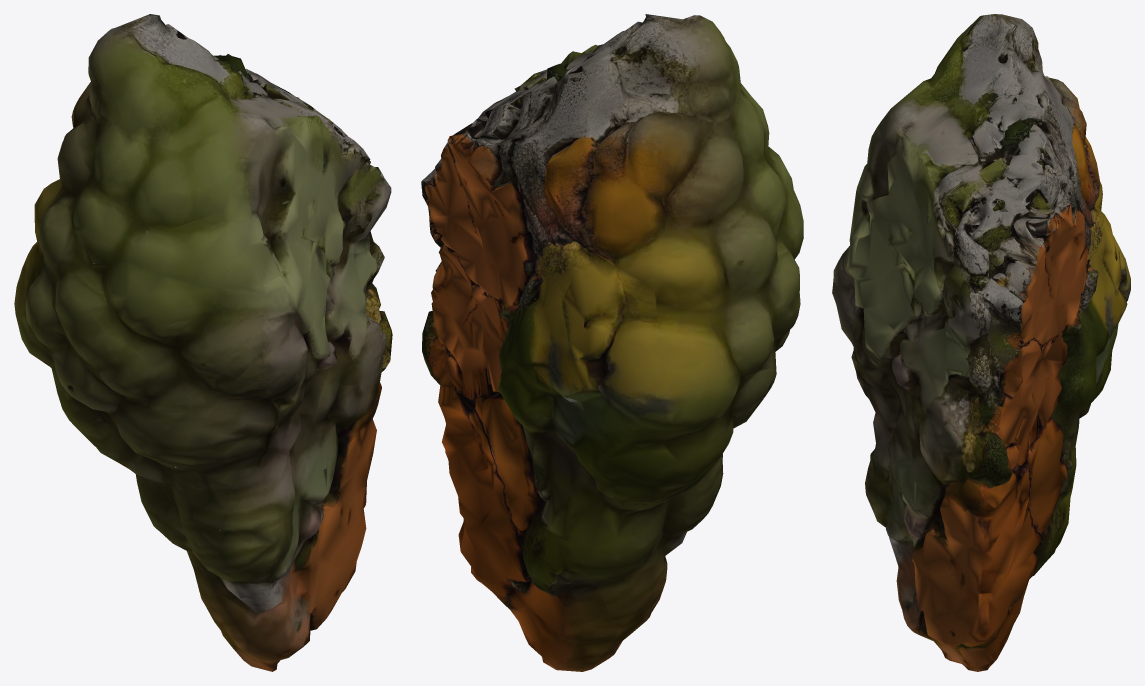
Rendered from rock_sculpture.glb.
The picture shows the model from 3 angles, left to right: view 1: azimuth 30°, elevation 25°; view 2: azimuth 150°, elevation 25°; view 3: azimuth 270°, elevation 25°; orthographic projection. The views are drawn at different scales.
Visible parts, largest first — view 1: tripo_node_705eb9f8; view 2: tripo_node_705eb9f8; view 3: tripo_node_705eb9f8.
Boxes of the visible parts, x1=… form: tripo_node_705eb9f8: x1=14, y1=14, x2=392, y2=671; tripo_node_705eb9f8: x1=421, y1=14, x2=803, y2=671; tripo_node_705eb9f8: x1=832, y1=14, x2=1130, y2=671.
Bounding box in the file's own units: 0.532 × 0.9763 × 0.4418.
Materials: 1 (1 with a texture image).
